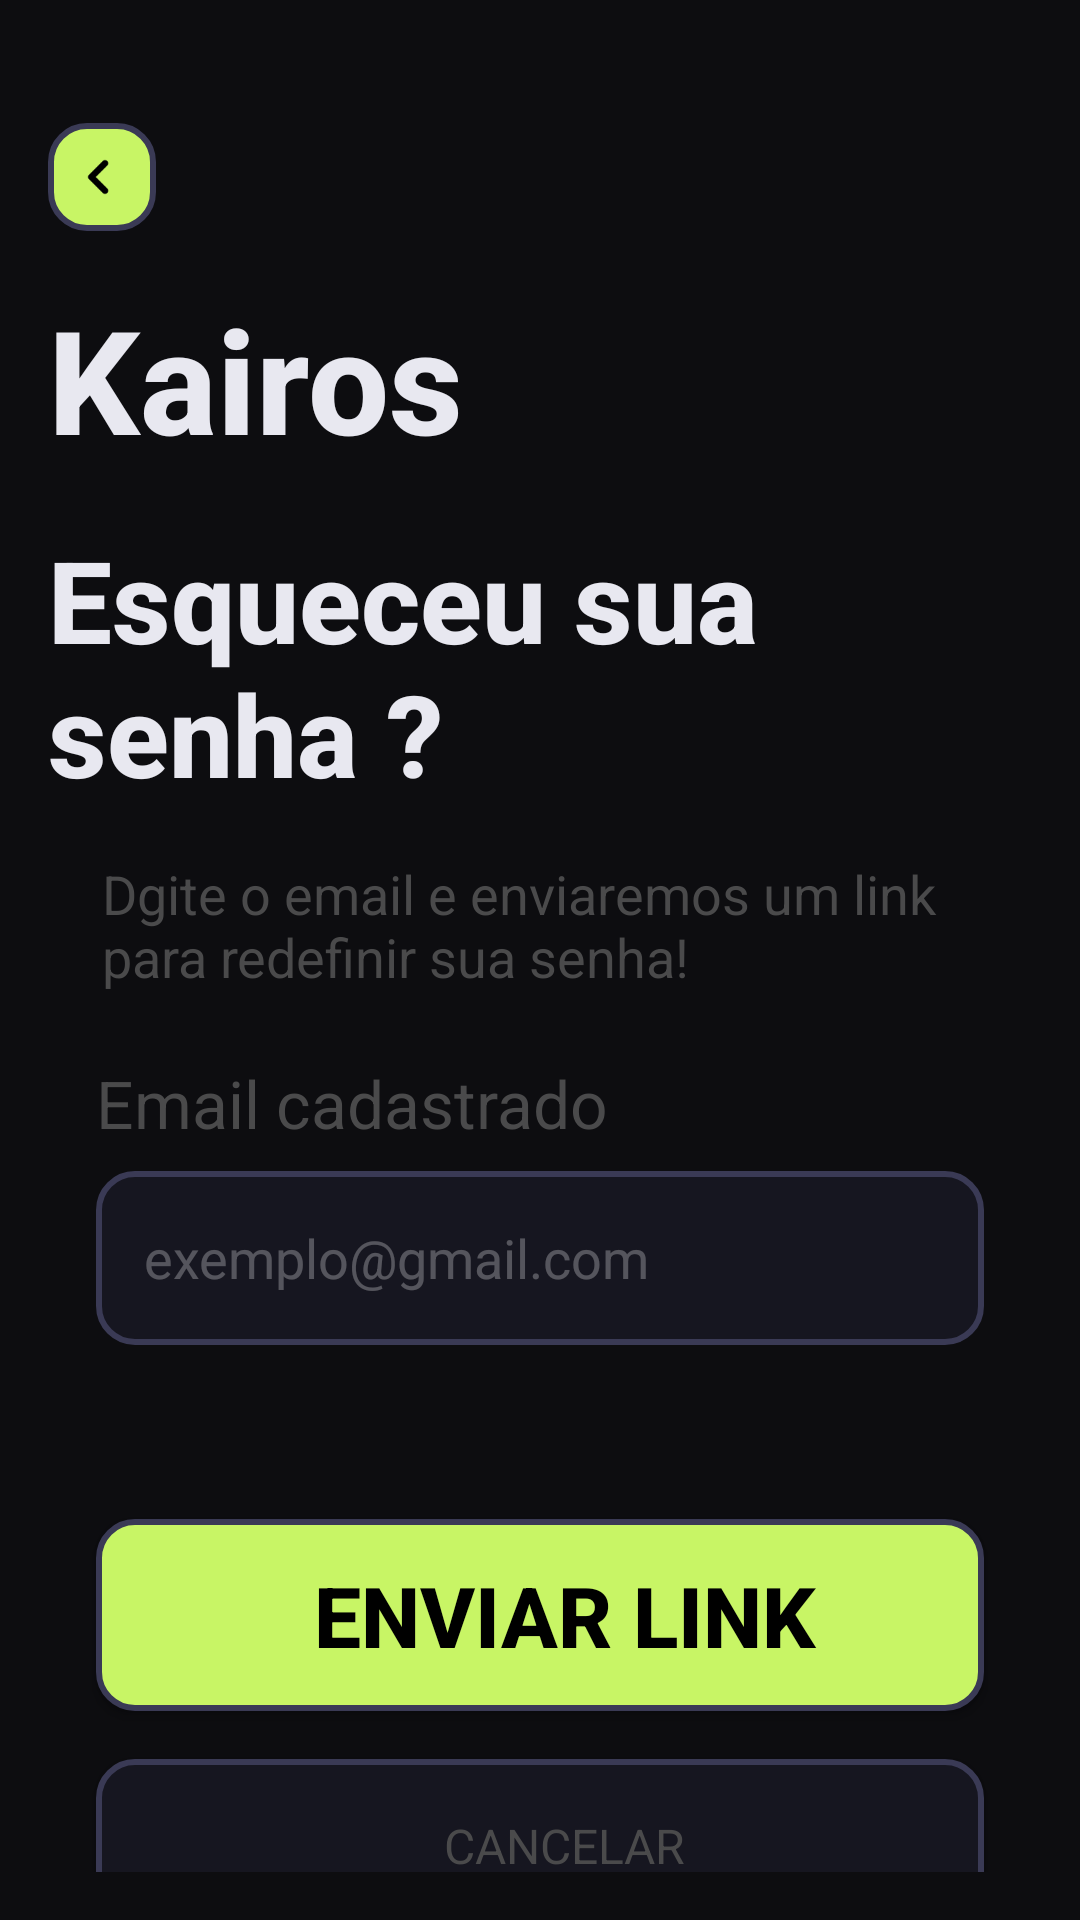

Screen size 1080×1920. Icon name, then its center in pixels as (x,y):
Voltar: (102,177)
